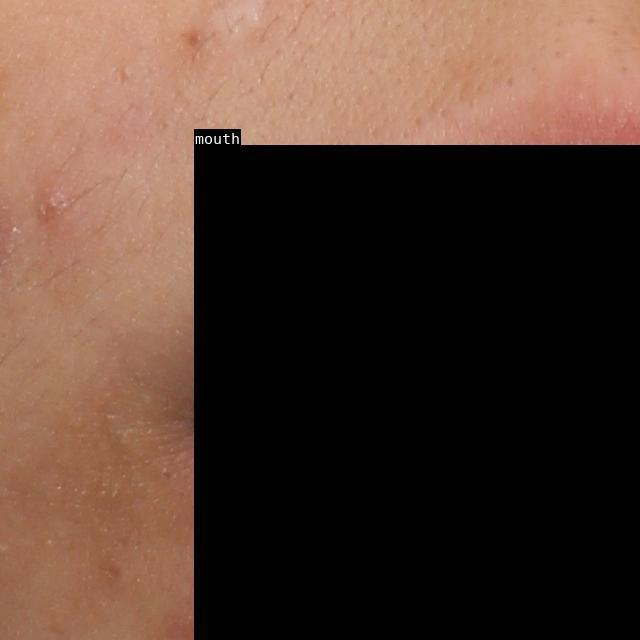papule: (25, 181, 70, 227)
